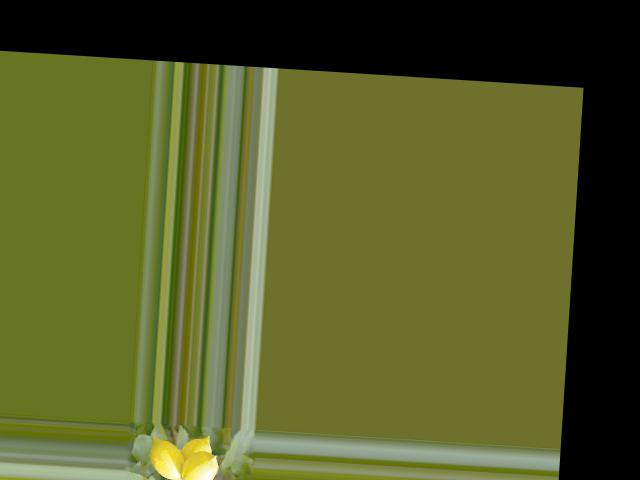lemon: (176, 427, 220, 475)
